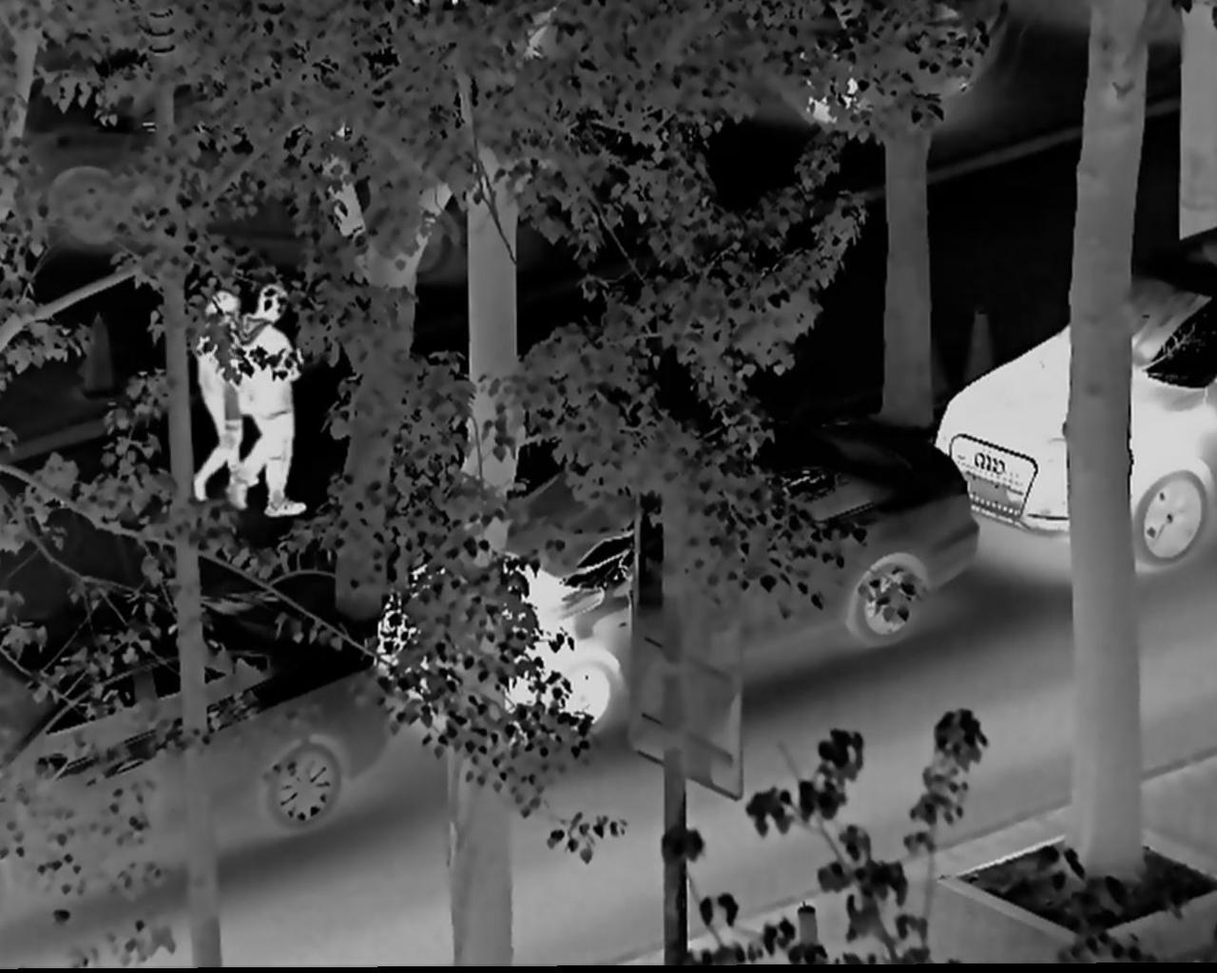person: (239, 284, 308, 520), (186, 285, 246, 508)
